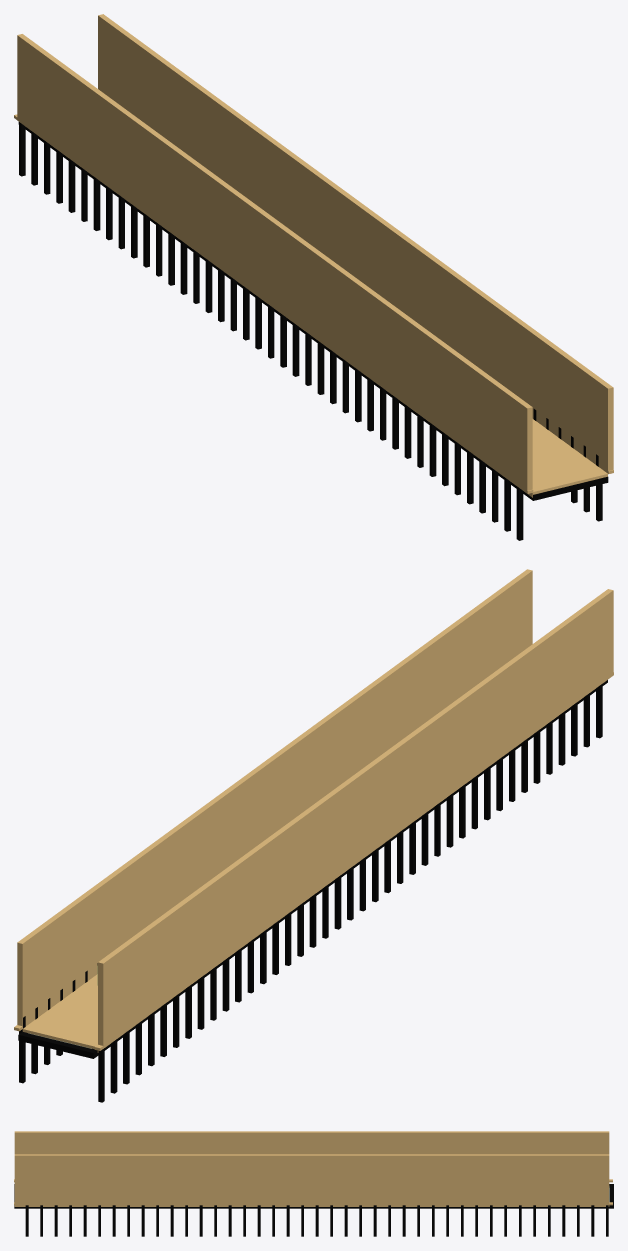
Rendered from blender_imports_test.fbx.
3 renders of one model, top to bottom at view 1: azimuth 30°, elevation 25°; view 2: azimuth 150°, elevation 25°; view 3: azimuth 270°, elevation 25°, orthographic. The views are drawn at different scales.
Parts seen in each view (by area): view 1: 7-RightInvisibleWall, 6-LeftInvisibleWall, 14-BookshelfBorderLeft, 3-Ground, 5-RightBorder, 13-BookshelfGround, 15-BookshelfBorderRight; view 2: 7-RightInvisibleWall, 6-LeftInvisibleWall, 14-BookshelfBorderLeft, 3-Ground, 13-BookshelfGround, 5-RightBorder, 15-BookshelfBorderRight; view 3: 6-LeftInvisibleWall, 7-RightInvisibleWall, 15-BookshelfBorderRight, 13-BookshelfGround, 3-Ground, 4-LeftBorder.
Part boxes in pixels (x1=…): 7-RightInvisibleWall: x1=17, y1=34, x2=532, y2=492; 6-LeftInvisibleWall: x1=98, y1=14, x2=613, y2=473; 14-BookshelfBorderLeft: x1=19, y1=122, x2=523, y2=540; 3-Ground: x1=30, y1=130, x2=607, y2=497; 5-RightBorder: x1=14, y1=114, x2=533, y2=493; 13-BookshelfGround: x1=18, y1=122, x2=608, y2=500; 15-BookshelfBorderRight: x1=533, y1=409, x2=602, y2=521; 7-RightInvisibleWall: x1=98, y1=589, x2=613, y2=1048; 6-LeftInvisibleWall: x1=17, y1=569, x2=532, y2=1026; 14-BookshelfBorderLeft: x1=98, y1=684, x2=602, y2=1102; 3-Ground: x1=22, y1=682, x2=604, y2=1052; 13-BookshelfGround: x1=18, y1=680, x2=607, y2=1058; 5-RightBorder: x1=94, y1=672, x2=613, y2=1050; 15-BookshelfBorderRight: x1=19, y1=963, x2=97, y2=1083; 6-LeftInvisibleWall: x1=14, y1=1154, x2=609, y2=1205; 7-RightInvisibleWall: x1=14, y1=1131, x2=609, y2=1154; 15-BookshelfBorderRight: x1=25, y1=1205, x2=608, y2=1236; 13-BookshelfGround: x1=14, y1=1184, x2=613, y2=1208; 3-Ground: x1=14, y1=1205, x2=609, y2=1206; 4-LeftBorder: x1=14, y1=1202, x2=612, y2=1205.
Bounding box in the file's own units: 1600 × 2478 × 16547.
